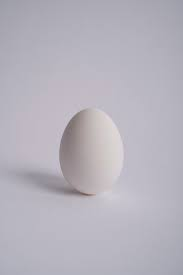eggs: (57, 84, 126, 198)
